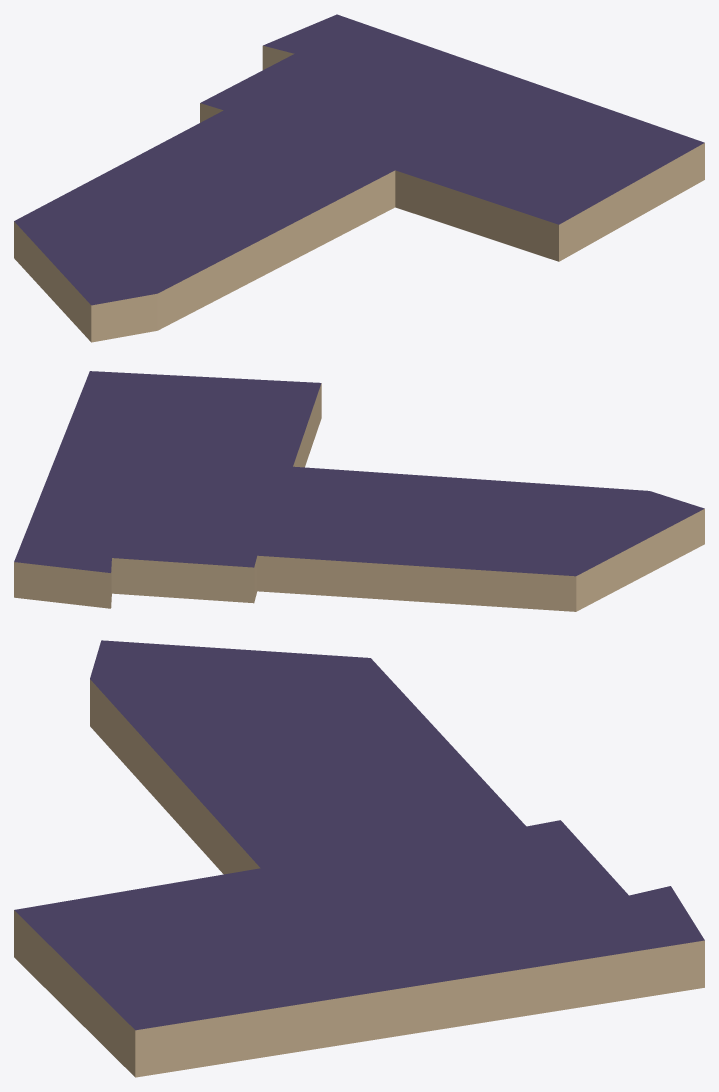
The model's file is b-077-kresge-building.glb.
The picture shows the model from 3 angles, top to bottom: view 1: azimuth 30°, elevation 25°; view 2: azimuth 150°, elevation 25°; view 3: azimuth 270°, elevation 25°; orthographic projection. The views are drawn at different scales.
Parts seen in each view (by area): view 1: campus/b-077-kresge-building-0; view 2: campus/b-077-kresge-building-0; view 3: campus/b-077-kresge-building-0.
Part boxes in pixels (bbox=[...]): campus/b-077-kresge-building-0: bbox=[14, 14, 704, 342]; campus/b-077-kresge-building-0: bbox=[14, 371, 704, 611]; campus/b-077-kresge-building-0: bbox=[14, 640, 704, 1077].
Bounding box in the file's own units: 53.06 × 3 × 39.73.
